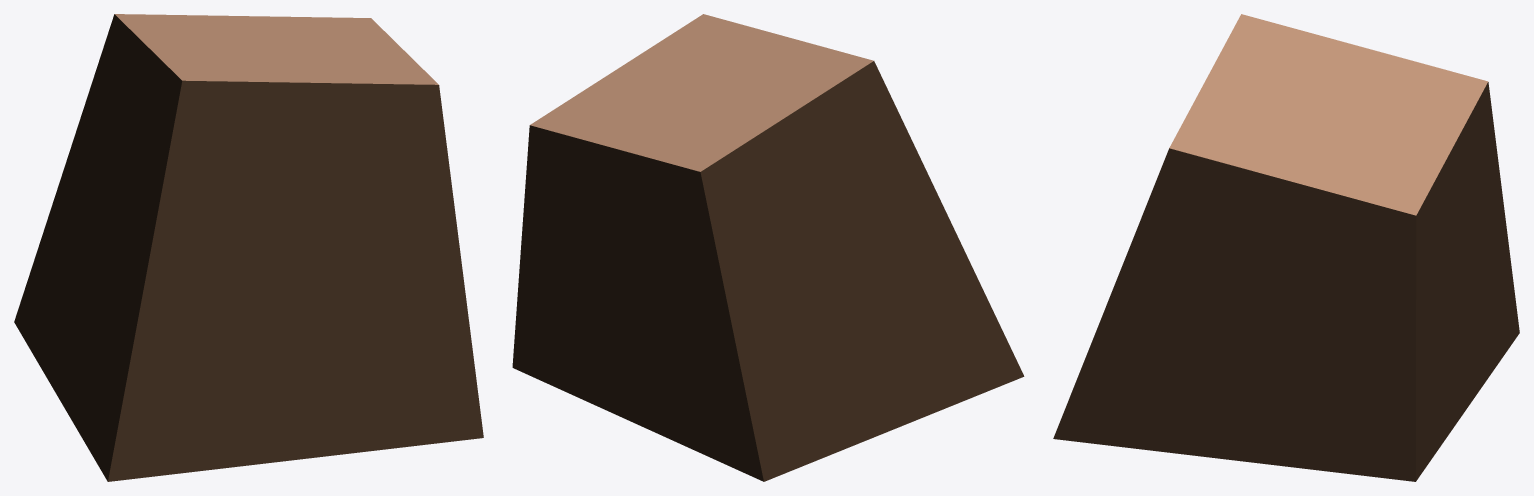
The model's file is ASSET_TREE_TRUNK.glb.
The picture shows the model from 3 angles, left to right: view 1: azimuth 30°, elevation 25°; view 2: azimuth 150°, elevation 25°; view 3: azimuth 270°, elevation 25°; orthographic projection. The views are drawn at different scales.
Visible parts, largest first — view 1: ASSET_TREE_TRUNK.000|0; view 2: ASSET_TREE_TRUNK.000|0; view 3: ASSET_TREE_TRUNK.000|0.
Part boxes in pixels (x1,y1,x2,y2): ASSET_TREE_TRUNK.000|0: [14, 14, 483, 481]; ASSET_TREE_TRUNK.000|0: [512, 14, 1024, 481]; ASSET_TREE_TRUNK.000|0: [1053, 14, 1519, 481].
Bounding box in the file's own units: 0.6184 × 0.4852 × 0.6184.
